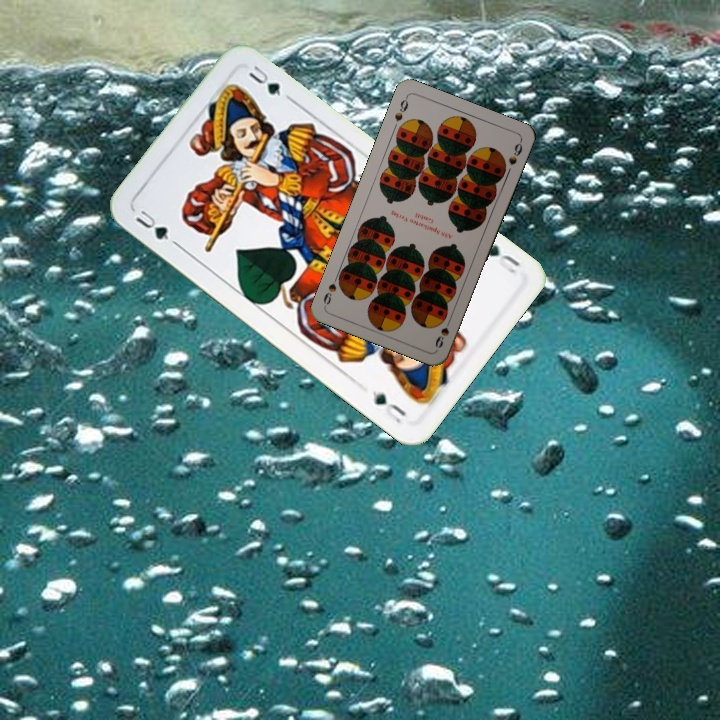GU: (131, 205, 172, 243), (484, 239, 523, 277)
S9: (431, 312, 454, 351), (390, 93, 411, 124)
